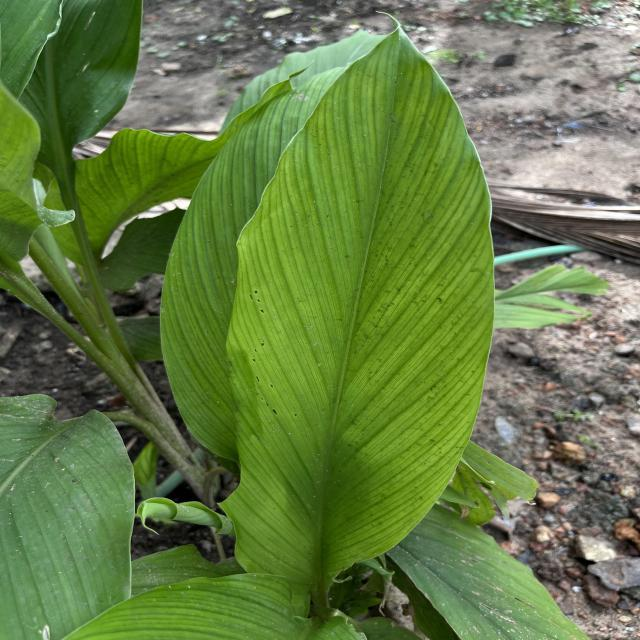Curcuma longa: (223, 6, 499, 597)
